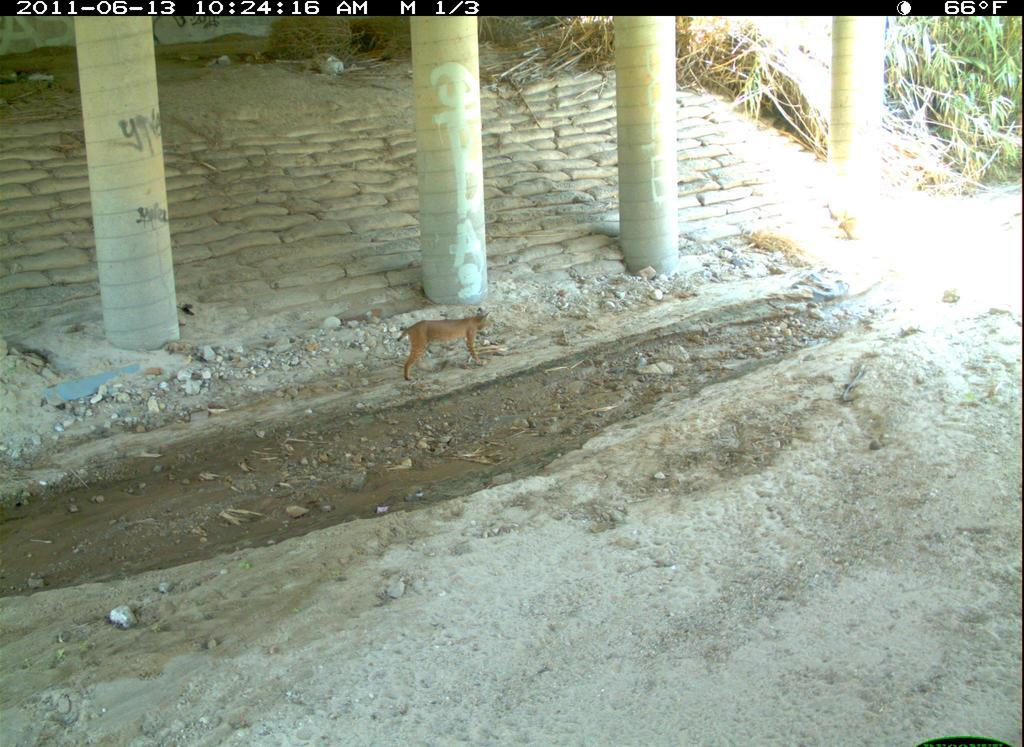bobcat: (787, 606, 997, 747)
